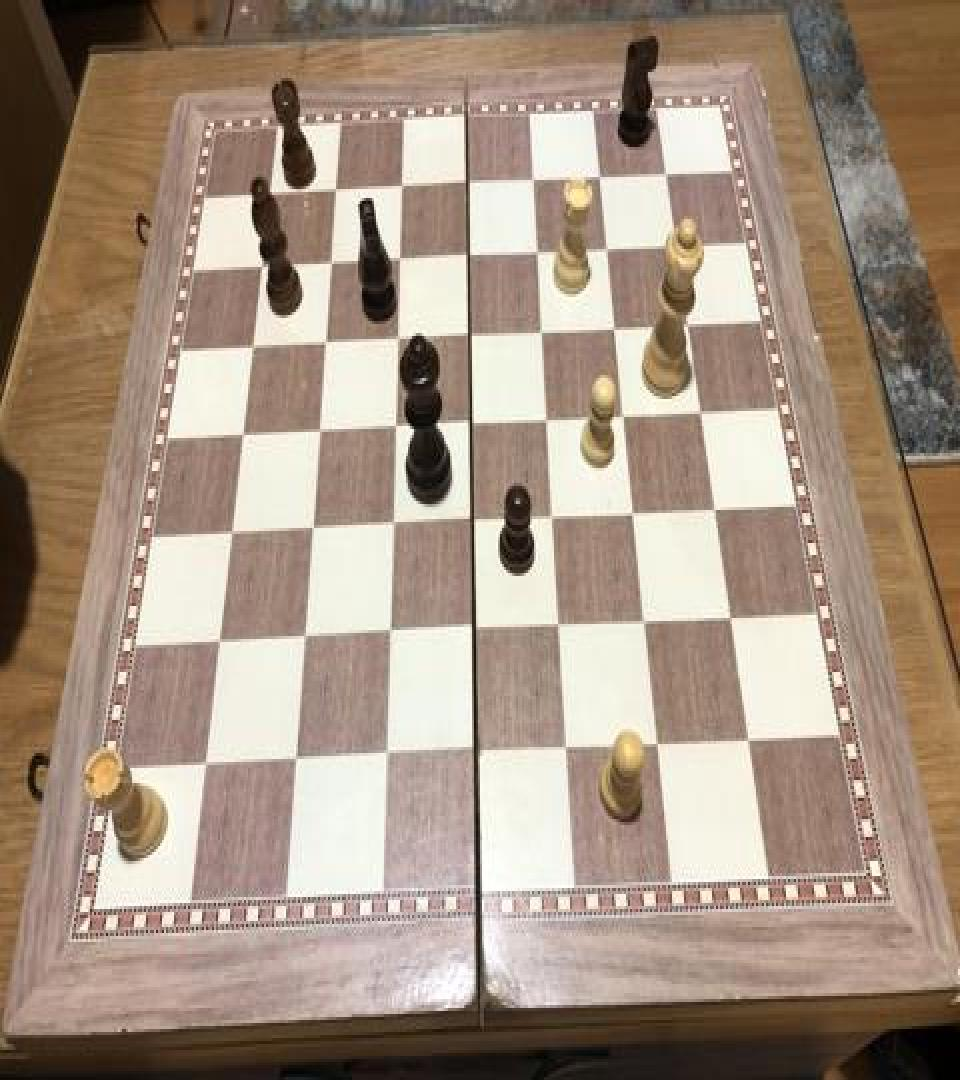xcorner: (381, 616, 405, 653), (210, 625, 234, 662), (377, 739, 401, 776), (658, 153, 682, 189), (592, 156, 616, 192), (525, 160, 549, 196), (459, 164, 483, 200), (392, 168, 416, 204), (326, 171, 350, 207), (260, 176, 284, 212), (669, 225, 693, 261), (599, 230, 623, 266), (530, 232, 554, 268), (460, 237, 484, 273), (391, 240, 415, 276), (321, 244, 345, 280), (252, 249, 276, 285), (680, 304, 704, 340), (607, 309, 631, 345), (534, 314, 558, 350), (461, 316, 485, 352), (388, 321, 412, 357), (316, 326, 340, 362), (693, 393, 717, 429), (616, 398, 640, 434), (540, 400, 564, 436), (463, 405, 487, 441), (386, 410, 410, 446), (309, 414, 333, 450), (233, 418, 257, 454), (707, 490, 731, 526), (626, 495, 650, 531), (545, 500, 569, 536), (464, 504, 488, 540), (384, 507, 408, 543), (303, 512, 327, 548), (222, 516, 246, 552), (723, 598, 747, 634), (637, 603, 661, 639), (552, 608, 576, 644), (466, 612, 490, 648), (295, 621, 319, 657), (741, 720, 765, 756), (650, 726, 674, 762), (559, 730, 583, 766), (468, 735, 492, 771), (287, 744, 311, 780), (196, 750, 220, 786), (243, 329, 267, 364)
